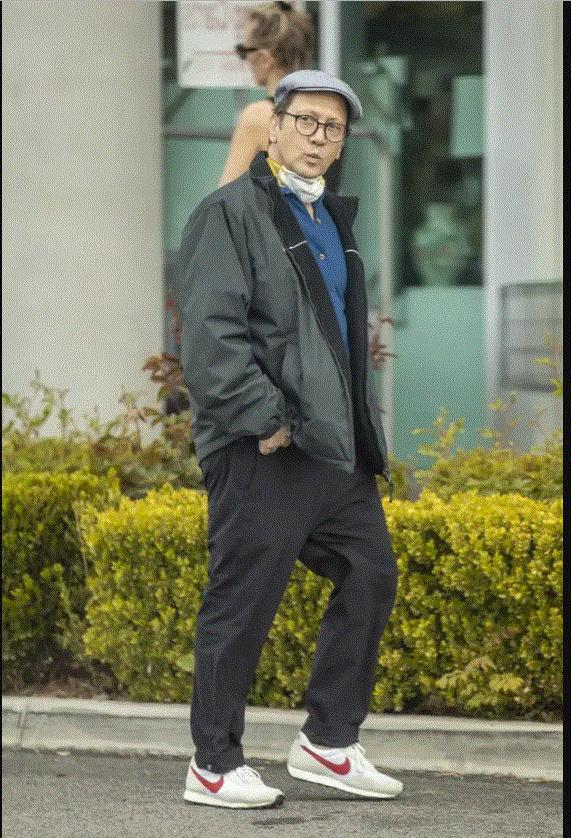mask_weared_incorrect: (272, 108, 346, 188)
